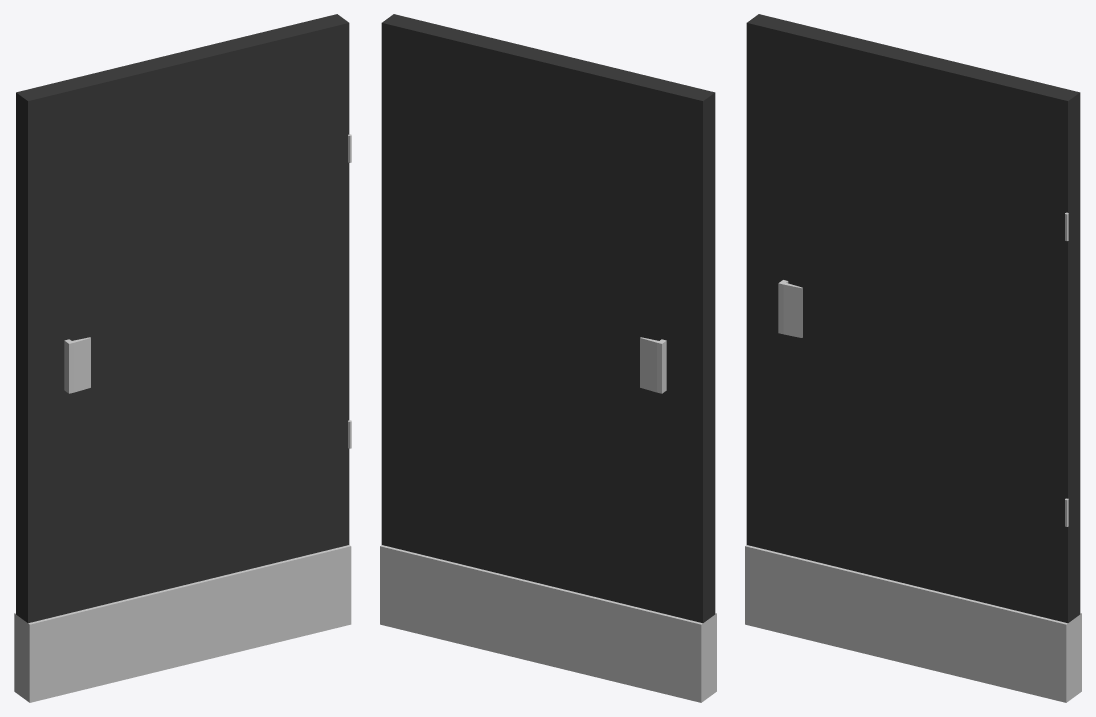
Rendered from P_Door_Double_2.fbx.
3 renders of one model, left to right at view 1: azimuth 30°, elevation 25°; view 2: azimuth 150°, elevation 25°; view 3: azimuth 330°, elevation 25°, orthographic.
Parts seen in each view (by area): view 1: P_Door_Double_2; view 2: P_Door_Double_2; view 3: P_Door_Double_2.
Part boxes in pixels (bbox=[...]): P_Door_Double_2: bbox=[14, 14, 351, 702]; P_Door_Double_2: bbox=[380, 14, 716, 702]; P_Door_Double_2: bbox=[745, 14, 1081, 702].
Size of the model in its own units: 661 by 1174 by 76.19.
